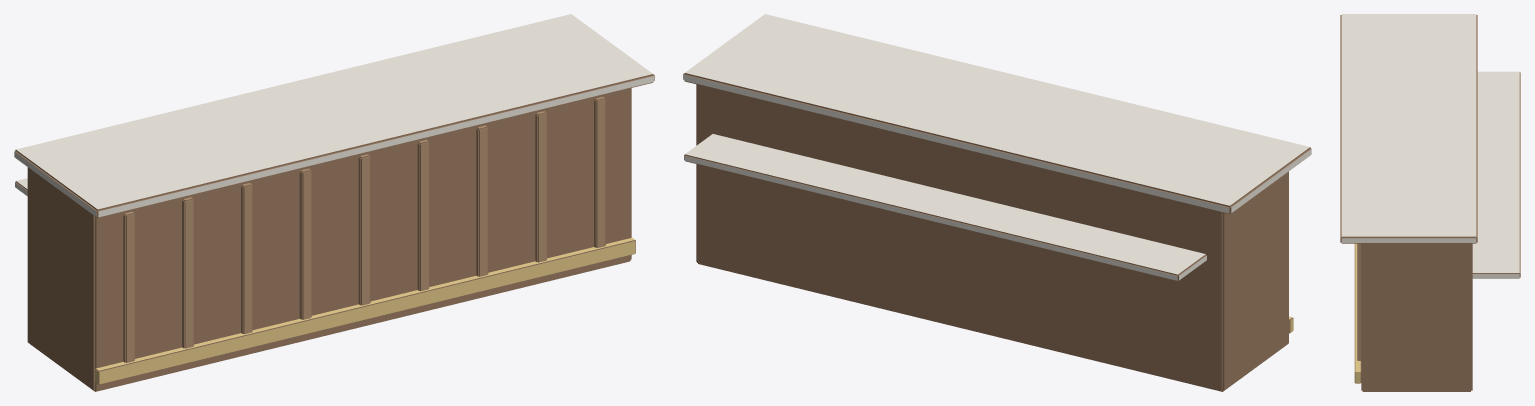
File: mostrador.glb
The picture shows the model from 3 angles, left to right: view 1: azimuth 30°, elevation 25°; view 2: azimuth 150°, elevation 25°; view 3: azimuth 270°, elevation 25°; orthographic projection. The views are drawn at different scales.
Parts seen in each view (by area): view 1: mostrador; view 2: mostrador; view 3: mostrador.
Boxes of the visible parts, x1,y1,x2,y2 form: mostrador: (14,14,654,391); mostrador: (683,14,1311,391); mostrador: (1340,14,1520,391).
Size of the model in its own units: 3.32 by 1.11 by 1.13.
